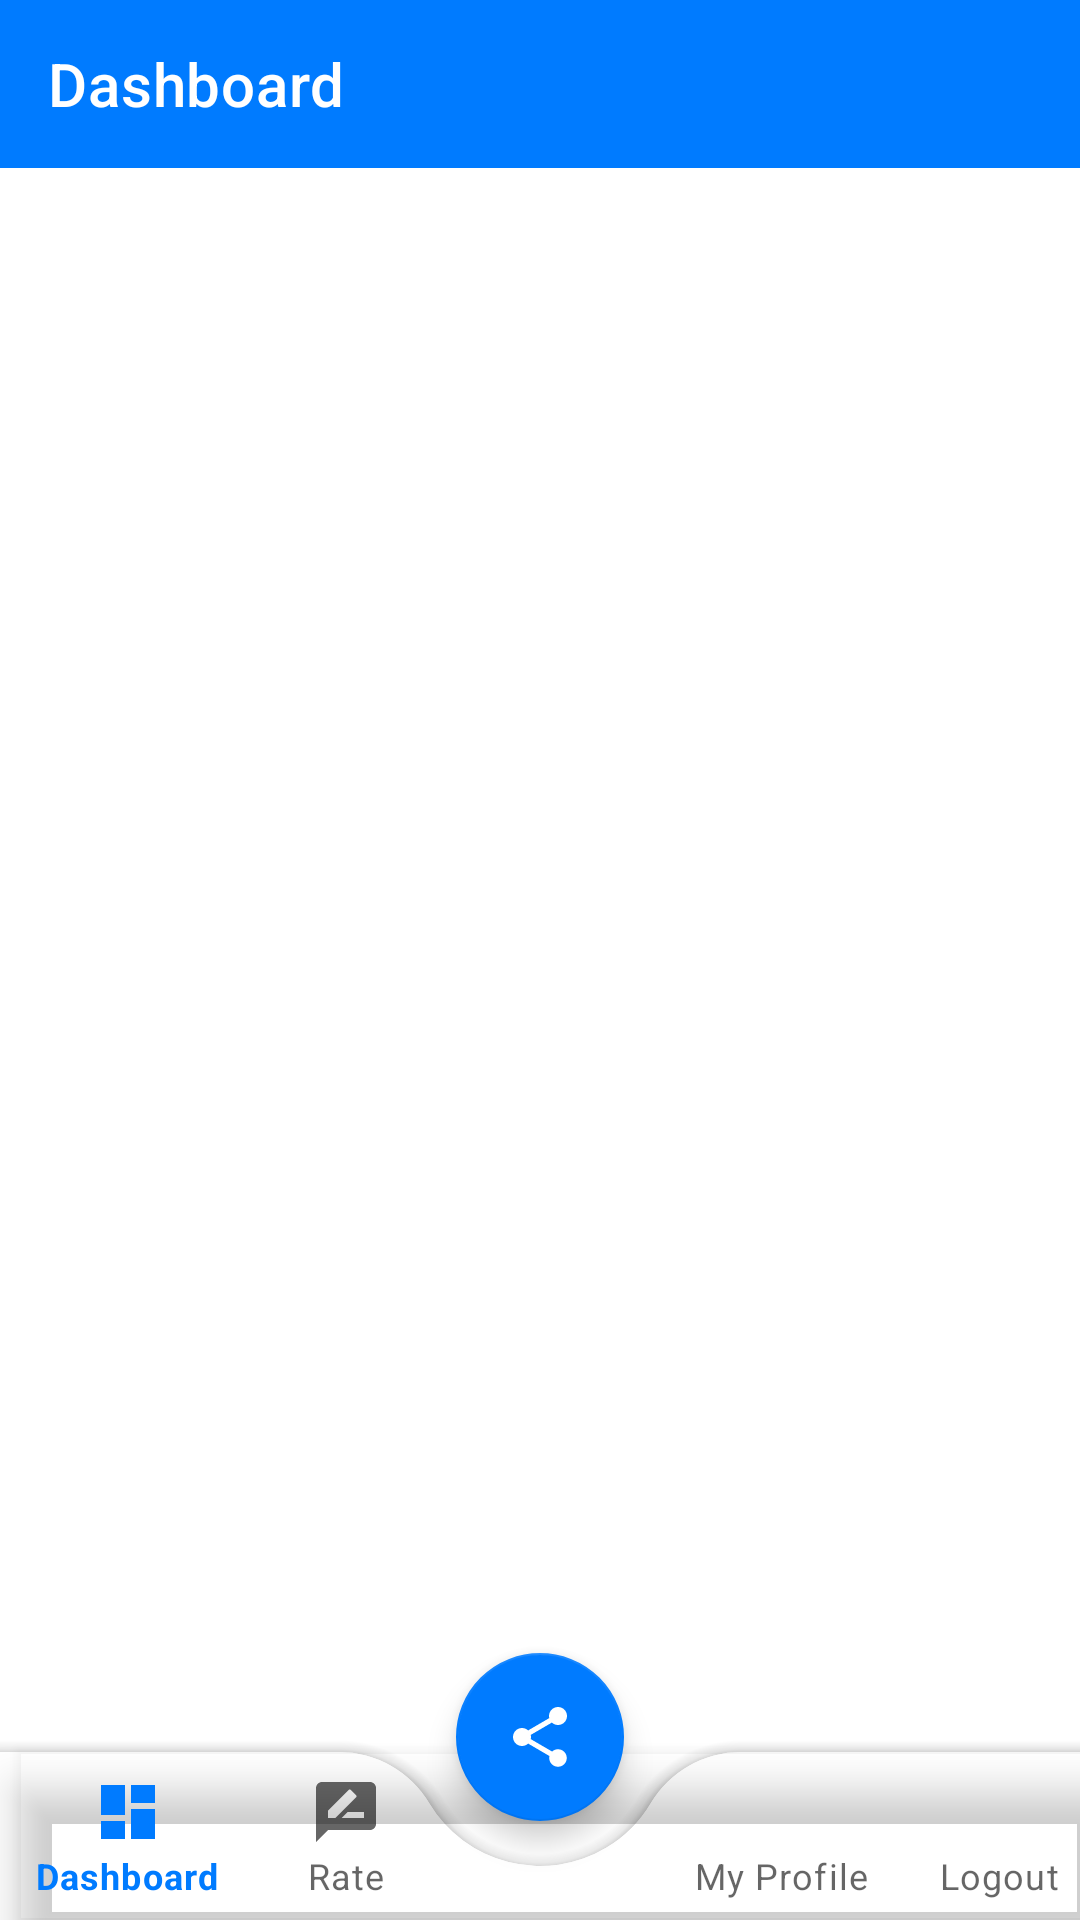

Named icons in this screenshot (1080 x 1920) and their bounding boxes, region(x1, y1, x2, y2):
share: region(456, 1668, 624, 1836)
